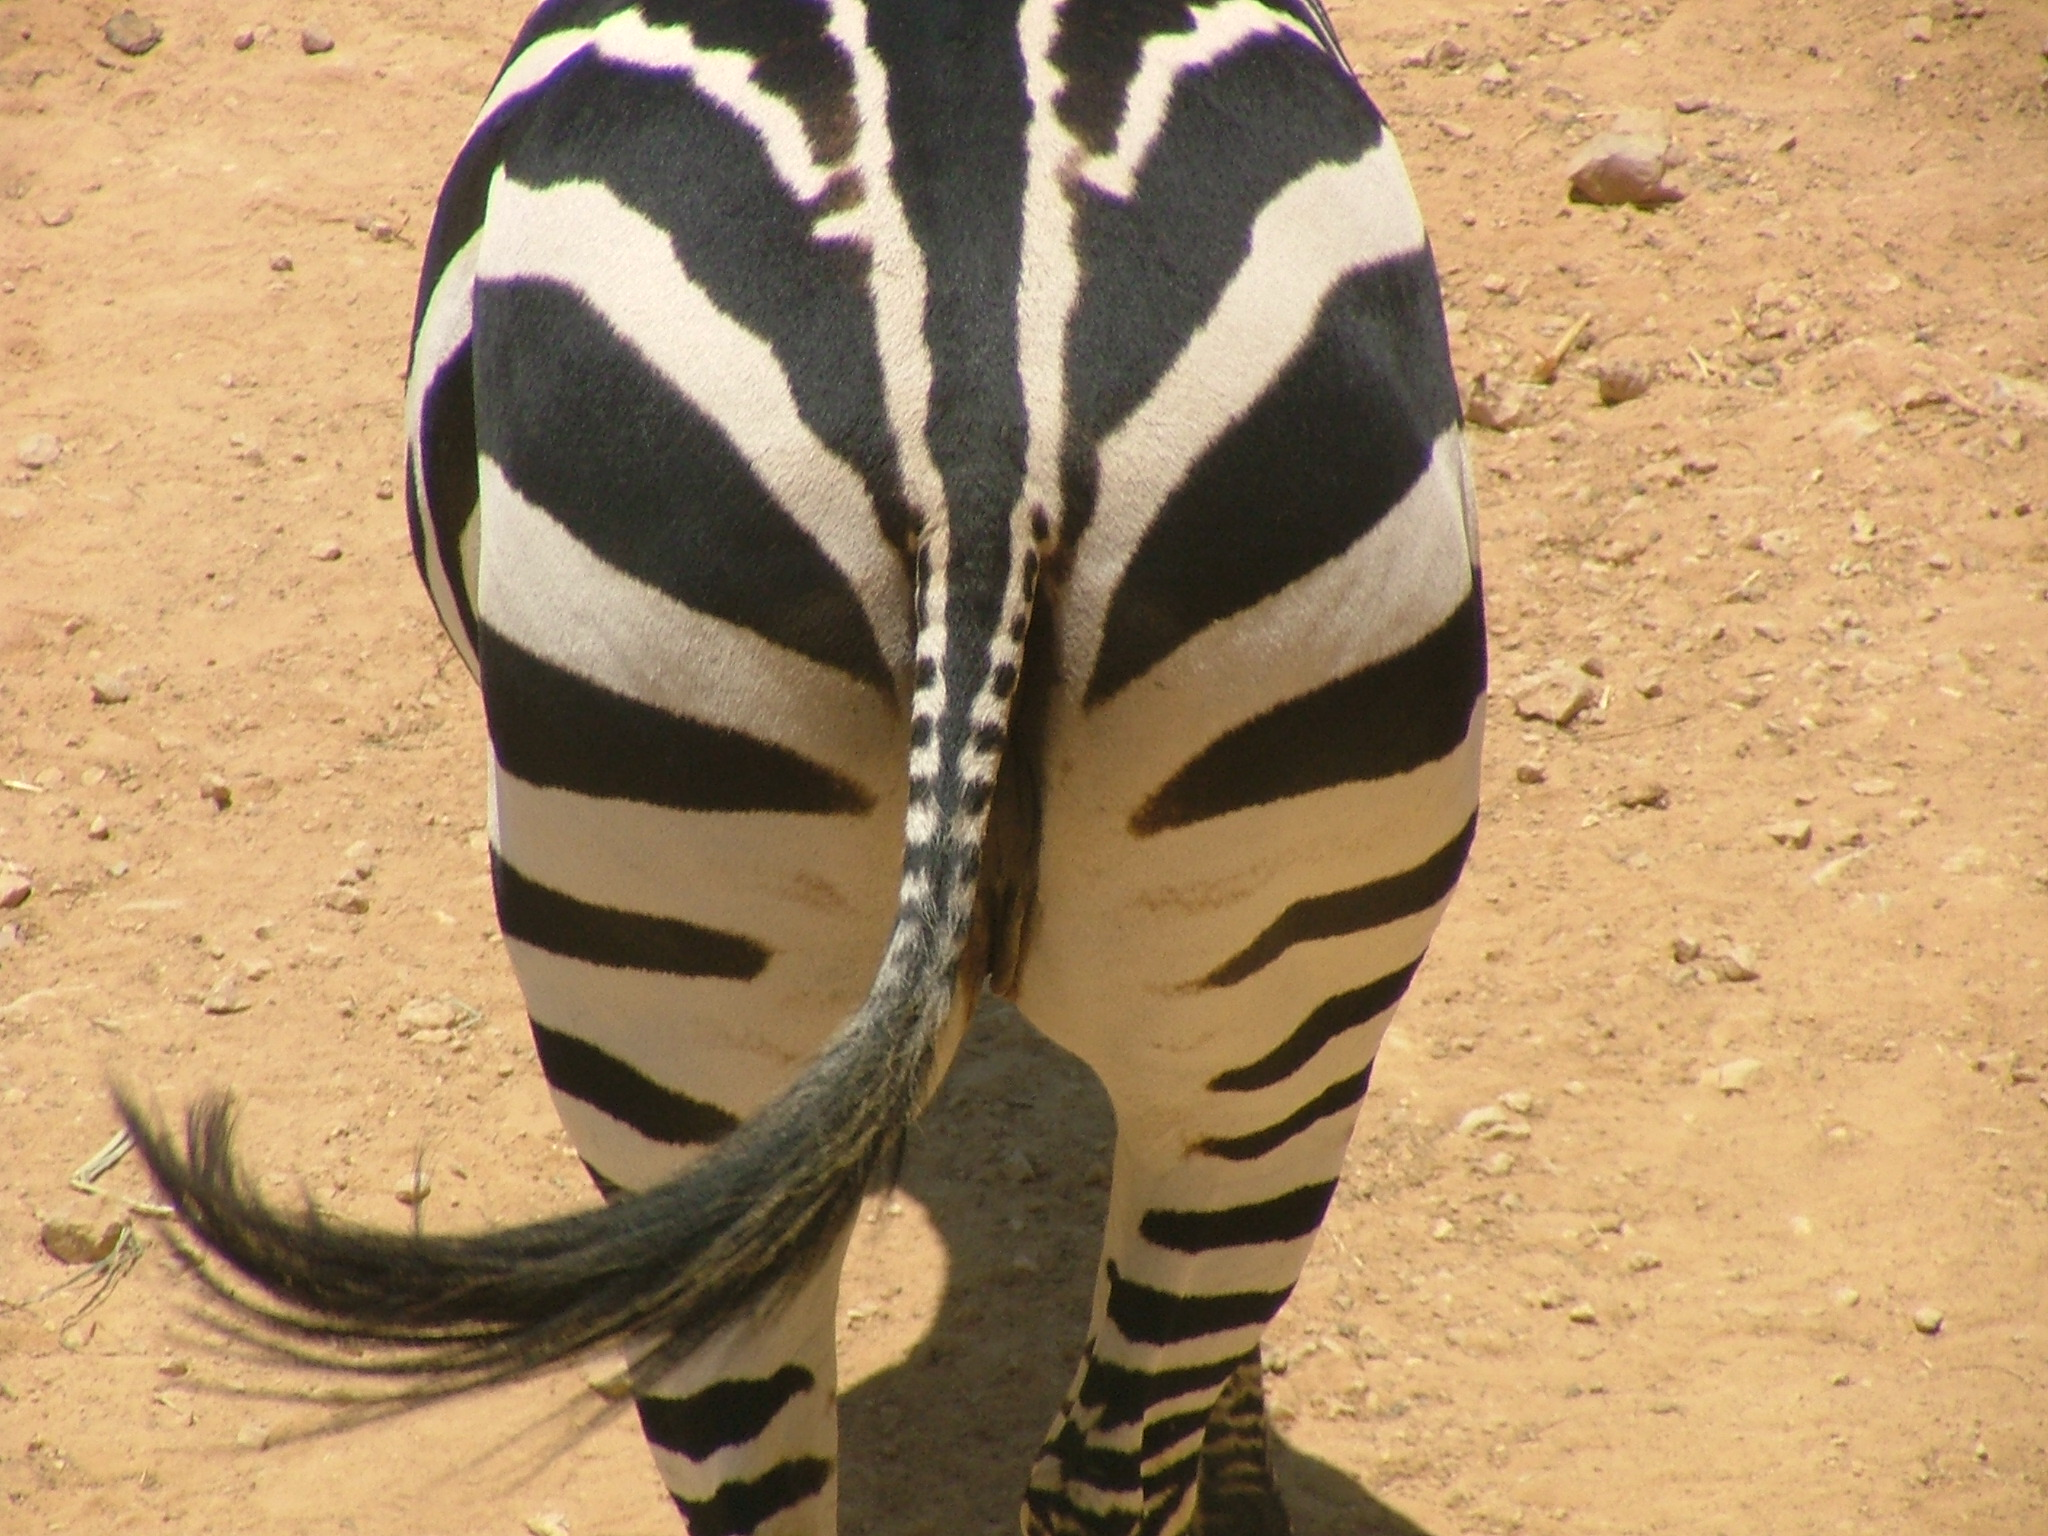zebra: (393, 2, 1517, 1513)
